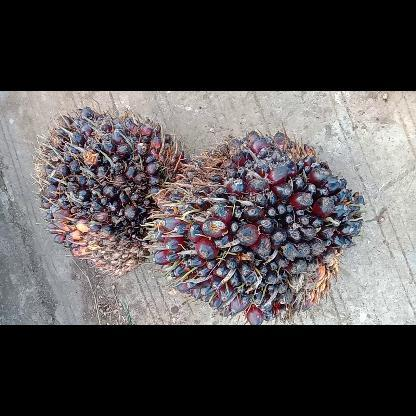TBS mentah: (153, 129, 365, 324), (35, 106, 186, 276)
